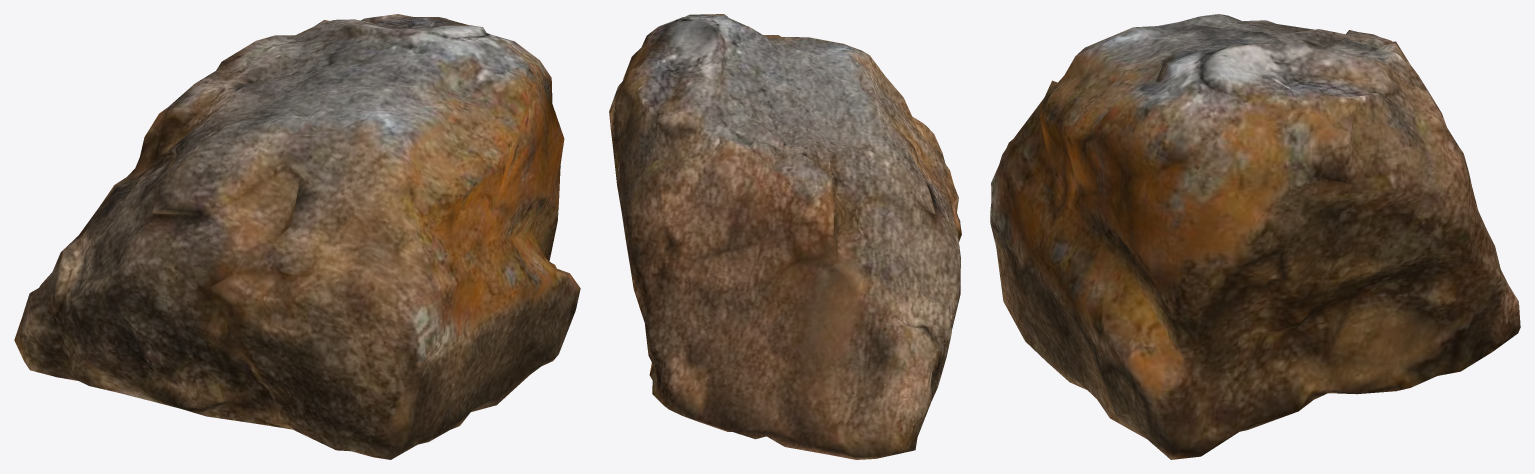
File: rock_namaqualand_boulder_04.glb
3 views of the same model, side by side, from view 1: azimuth 30°, elevation 25°; view 2: azimuth 150°, elevation 25°; view 3: azimuth 270°, elevation 25° (orthographic). The views are drawn at different scales.
Parts seen in each view (by area): view 1: boulder_04; view 2: boulder_04; view 3: boulder_04.
Boxes of the visible parts, left/top/right/bottom form: boulder_04: left=14, top=14, right=580, bottom=459; boulder_04: left=609, top=14, right=961, bottom=459; boulder_04: left=990, top=14, right=1520, bottom=459.
Size of the model in its own units: 2.52 by 1.89 by 2.48.
1 material, 1 textured.
